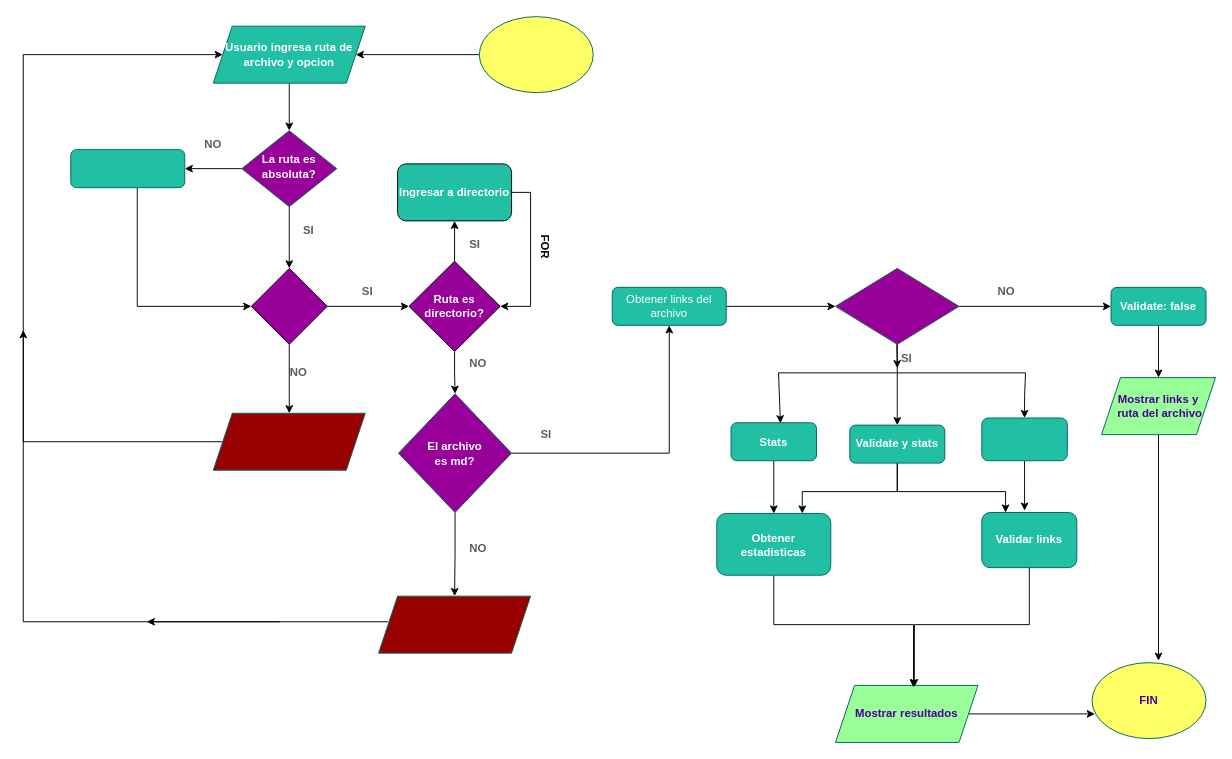
Some shapes in this 1232 by 759 pixel diagram are drawn without their labels. Each missing label, with the box of its shape:
Convertirla en ruta absoluta: (70, 149, 185, 188)
INICIO: (478, 16, 593, 93)
Mensaje: "Formato de archivo invalido": (378, 595, 531, 653)
Mensaje: "Ingresar una ruta valida": (212, 412, 365, 470)
Ruta es valida?: (250, 267, 327, 344)
Usuario Ingreso opcion?: (835, 267, 959, 344)
Validate: true: (981, 417, 1067, 461)
